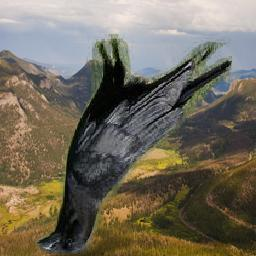Crow: (36, 34, 233, 254)
